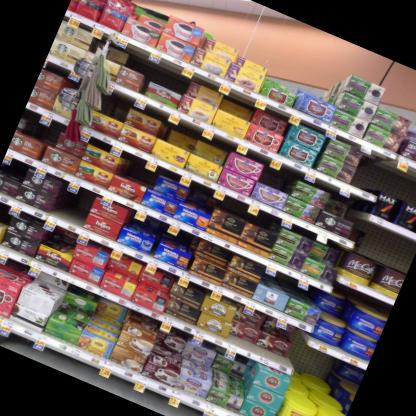empty_space: (53, 189, 89, 229)
